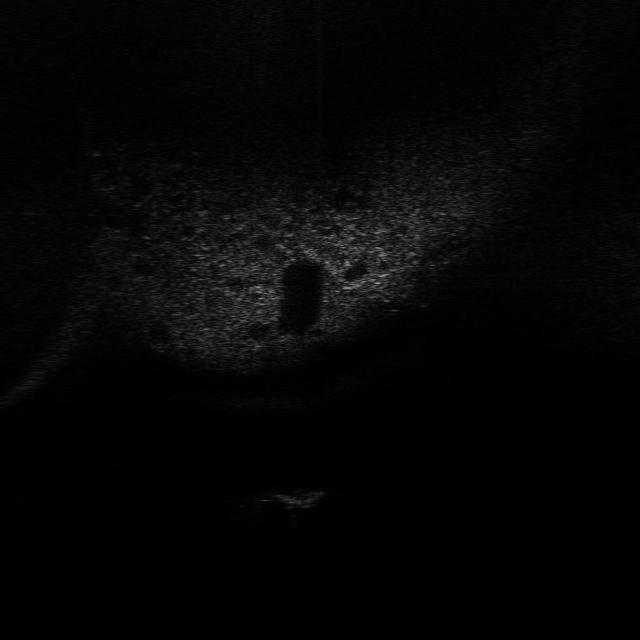cube: (253, 481, 329, 518)
